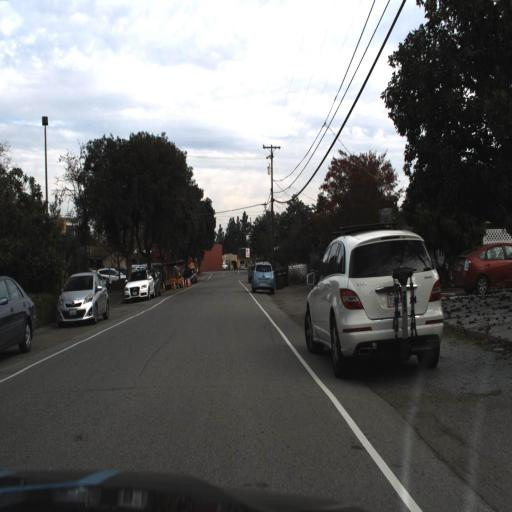car: (300, 209, 449, 382), (53, 270, 112, 329), (452, 240, 512, 294), (0, 273, 35, 360), (54, 274, 115, 323), (122, 268, 159, 300), (248, 258, 278, 292), (122, 269, 149, 299), (151, 266, 165, 295)
